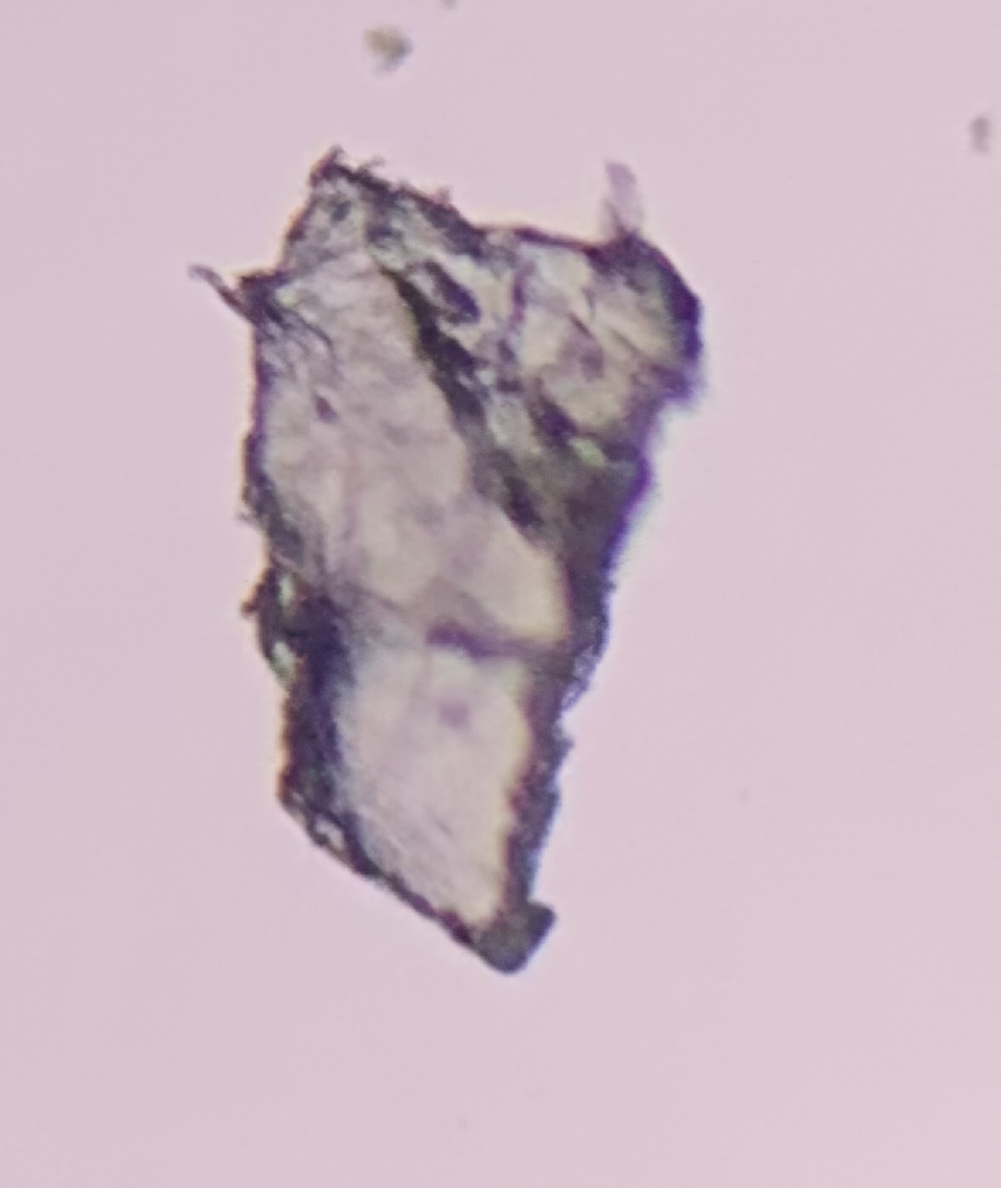microplastic: (191, 150, 706, 973), (361, 25, 412, 70), (967, 119, 987, 154)
